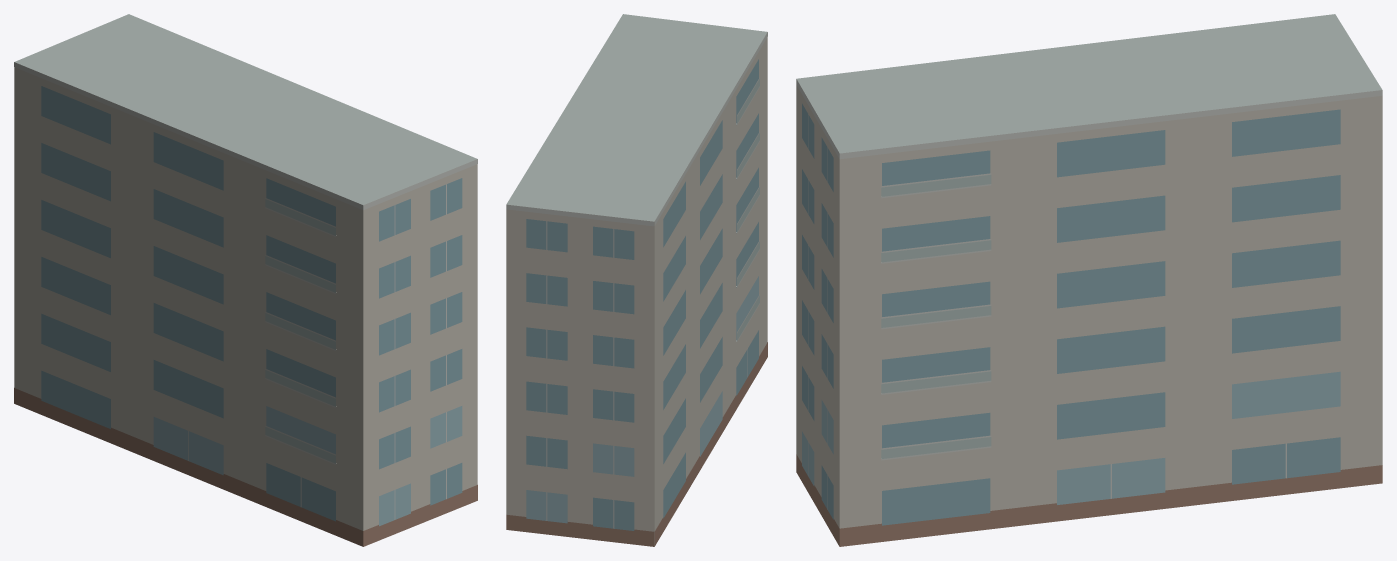
The model's file is survey-upis-33014661.glb.
3 views of the same model, side by side, from view 1: azimuth 30°, elevation 25°; view 2: azimuth 150°, elevation 25°; view 3: azimuth 270°, elevation 25° (orthographic). The views are drawn at different scales.
Visible parts, largest first — view 1: survey-upis-33014661.tmp; view 2: survey-upis-33014661.tmp; view 3: survey-upis-33014661.tmp.
Boxes of the visible parts, x1,y1,x2,y2 form: survey-upis-33014661.tmp: (14, 14, 477, 546); survey-upis-33014661.tmp: (506, 14, 767, 546); survey-upis-33014661.tmp: (796, 14, 1382, 546).
Size of the model in its own units: 12.64 by 16.6 by 22.43.
